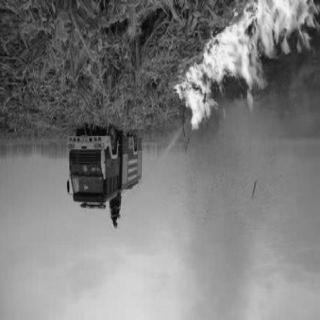Fire: (175, 3, 317, 137)
Smoke: (193, 156, 260, 312), (266, 160, 312, 252)
other: (63, 130, 145, 236)
